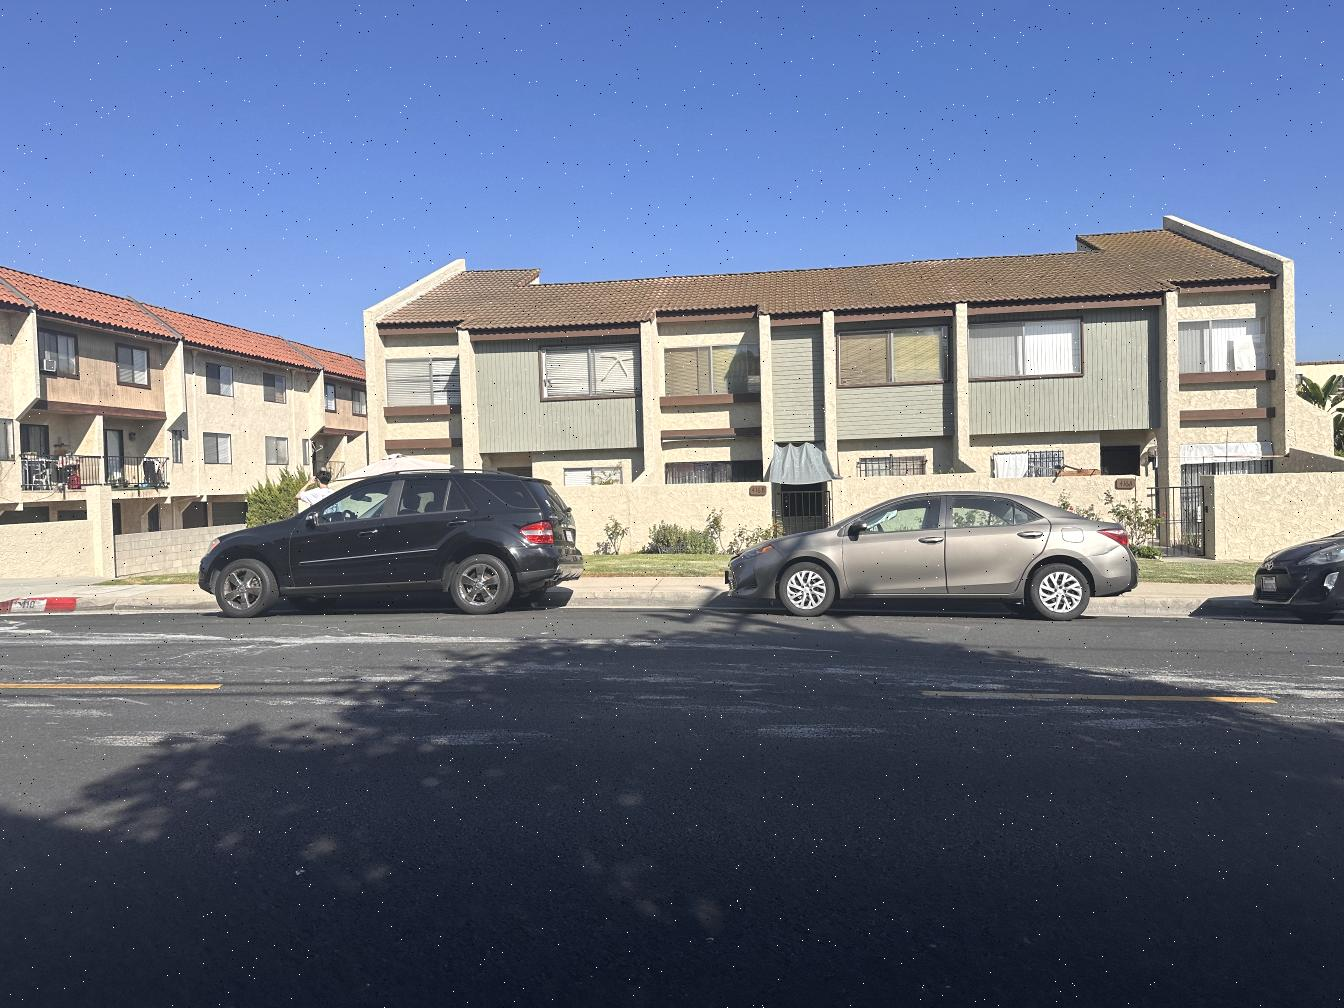curbs-laRr: (564, 587, 726, 609), (1130, 595, 1253, 617), (81, 594, 211, 612)
